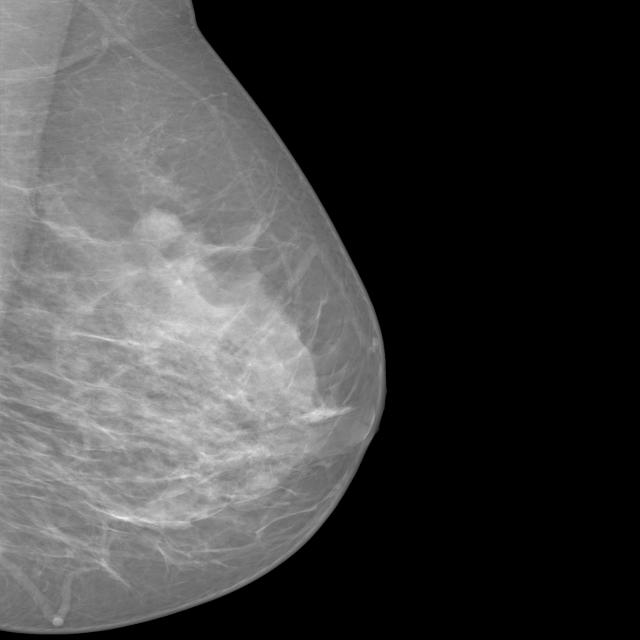Mass_1: (102, 187, 214, 276)
